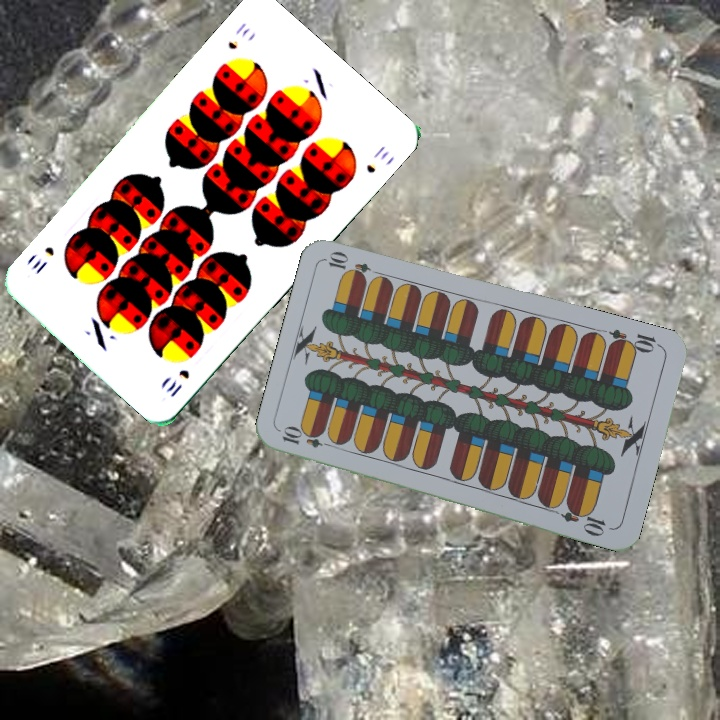E10: (605, 325, 664, 356), (278, 425, 337, 451)
S10: (162, 365, 192, 400), (224, 18, 253, 52)
